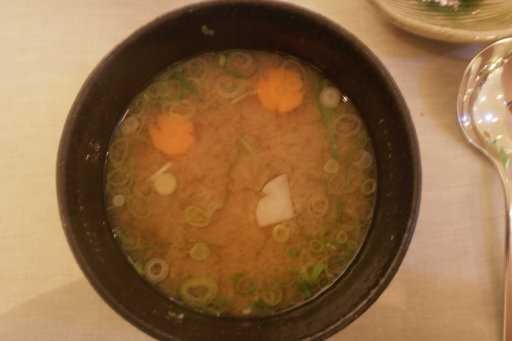soup: (82, 13, 425, 320)
